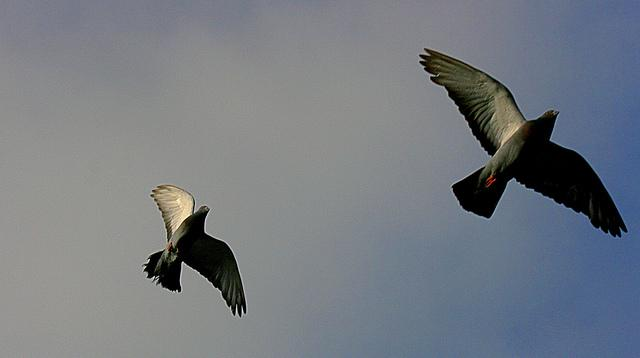bird: (415, 40, 636, 245), (133, 185, 251, 309)
